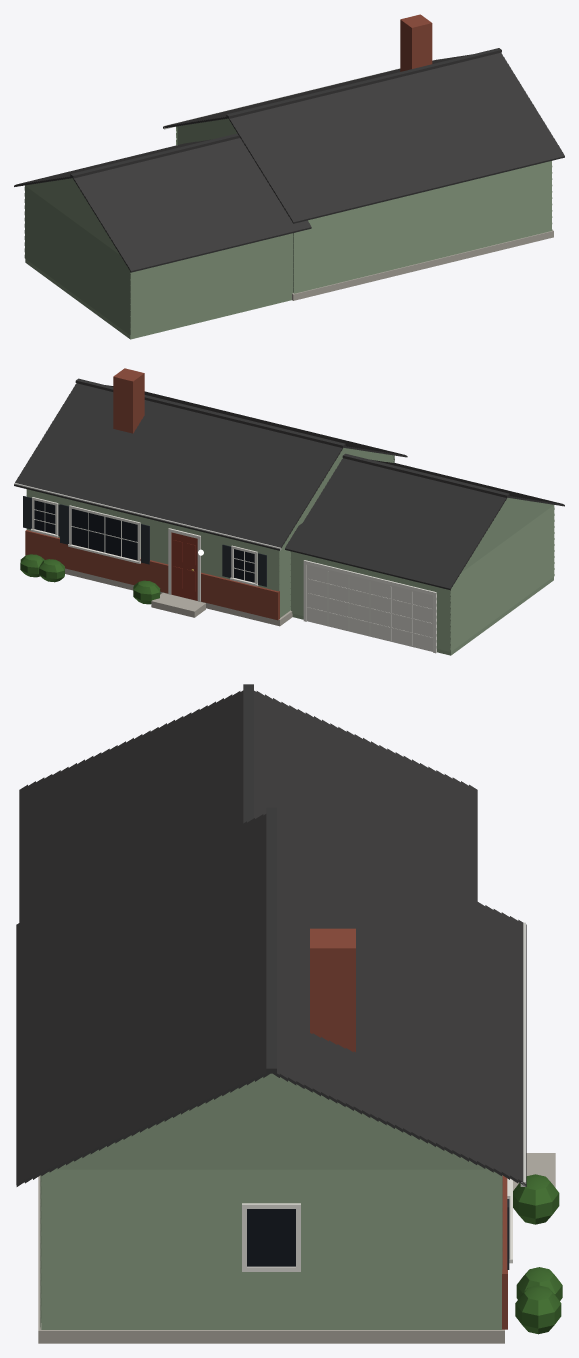
Rendered from house_b_m.glb.
The picture shows the model from 3 angles, top to bottom: view 1: azimuth 30°, elevation 25°; view 2: azimuth 150°, elevation 25°; view 3: azimuth 270°, elevation 25°; orthographic projection. The views are drawn at different scales.
Parts seen in each view (by area): view 1: house_b_m; view 2: house_b_m; view 3: house_b_m.
Boxes of the visible parts, x1,y1,x2,y2 form: house_b_m: [14, 14, 564, 339]; house_b_m: [14, 368, 564, 655]; house_b_m: [16, 684, 562, 1343].
Size of the model in its own units: 64 by 25.09 by 35.57.
